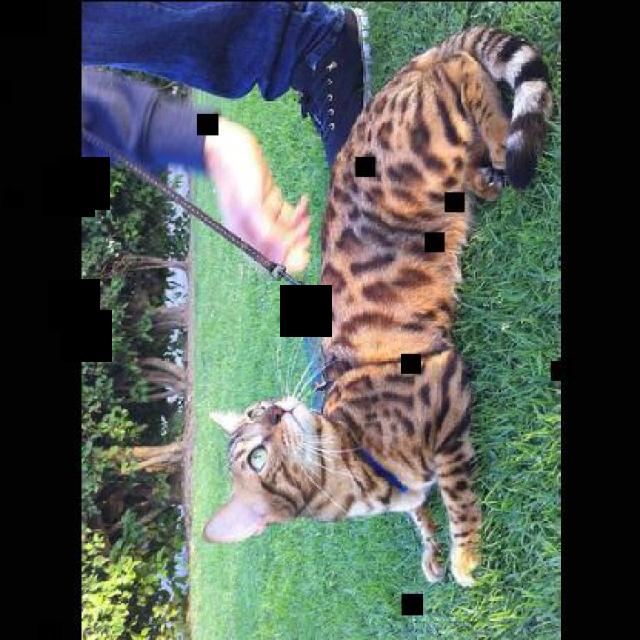unauthorized: (202, 23, 552, 588)
